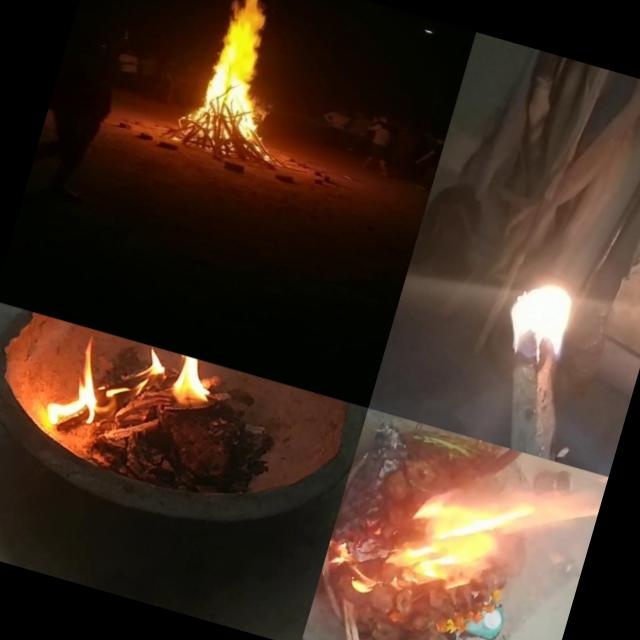fire: (451, 227, 618, 405), (44, 323, 224, 468), (180, 0, 302, 138), (488, 569, 577, 640)
